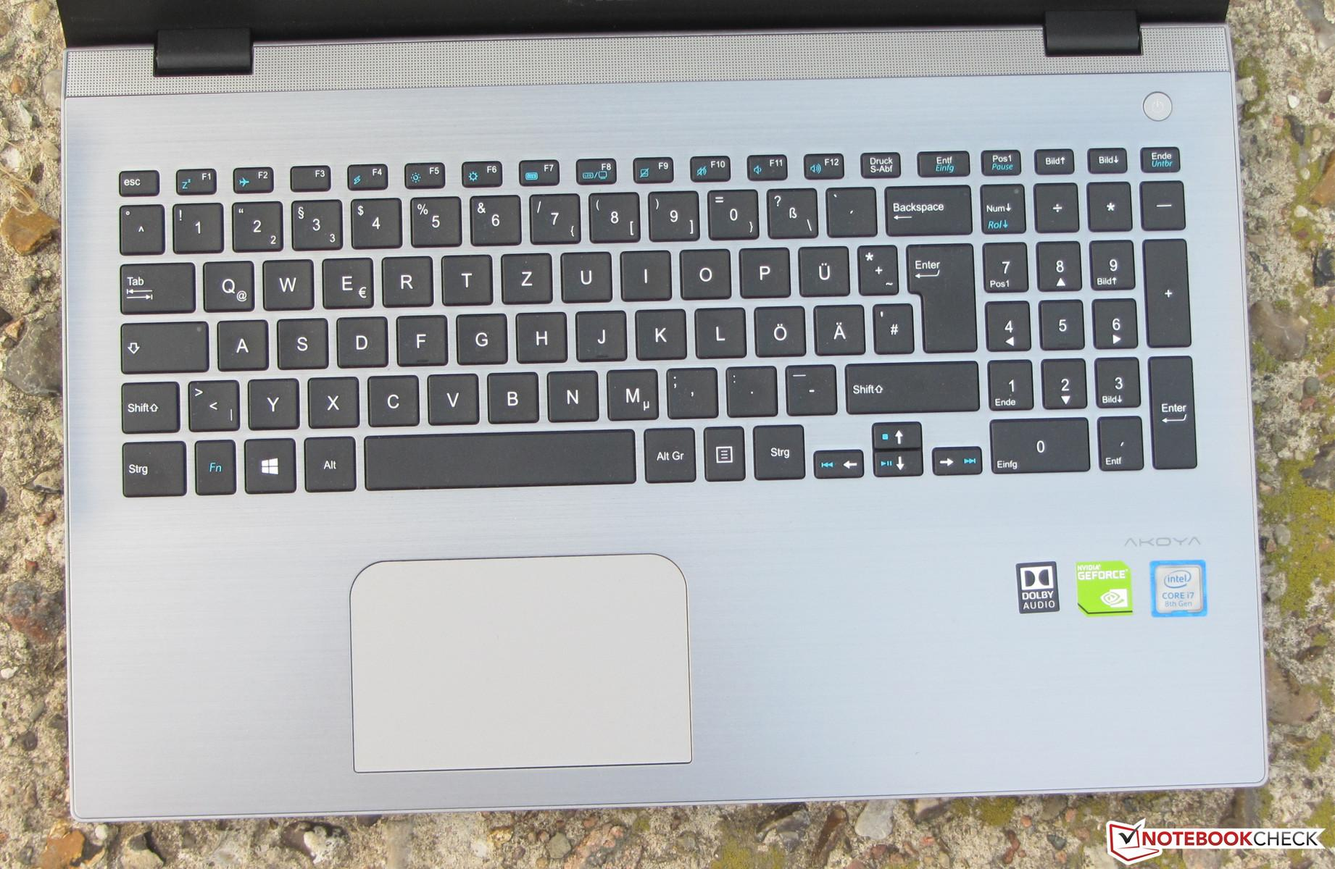0: (703, 185, 756, 237)
1: (170, 199, 221, 251)
2: (229, 198, 280, 249)
3: (288, 196, 341, 248)
4: (348, 194, 399, 245)
5: (407, 193, 459, 244)
6: (467, 191, 519, 243)
7: (527, 190, 577, 241)
8: (586, 189, 638, 240)
9: (645, 187, 696, 239)
a: (214, 315, 266, 369)
accent: (823, 183, 874, 235)
ae: (810, 300, 862, 353)
alt-left: (301, 434, 354, 490)
altgr-right: (641, 424, 694, 481)
b: (483, 368, 538, 421)
c: (364, 371, 417, 425)
caret: (116, 201, 162, 252)
comma: (662, 364, 716, 416)
d: (333, 313, 386, 366)
del: (881, 181, 969, 233)
e: (318, 253, 371, 306)
enter: (902, 239, 973, 350)
f: (394, 311, 445, 364)
g: (453, 309, 505, 362)
h: (512, 308, 565, 361)
hash: (870, 300, 912, 352)
i: (617, 245, 669, 298)
j: (573, 306, 625, 358)
k: (632, 305, 685, 358)
keyboard: (102, 121, 1201, 506)
l: (691, 303, 744, 356)
less: (185, 376, 238, 429)
m: (602, 364, 657, 418)
minus: (781, 361, 834, 413)
n: (543, 366, 597, 420)
o: (676, 245, 729, 297)
oe: (751, 302, 804, 355)
p: (736, 243, 788, 295)
plus: (854, 241, 896, 293)
point: (723, 363, 775, 413)
q: (199, 256, 252, 309)
r: (378, 252, 431, 305)
s: (273, 314, 325, 367)
shift-left: (116, 377, 177, 432)
shift-lock: (116, 317, 207, 371)
shift-right: (842, 358, 977, 412)
space: (362, 428, 633, 487)
ss: (763, 185, 815, 236)
strg-left: (116, 437, 183, 495)
strg-right: (749, 421, 804, 478)
t: (438, 250, 490, 302)
tab: (116, 258, 191, 311)
u: (557, 248, 610, 301)
ue: (795, 243, 847, 295)
v: (424, 369, 477, 422)
w: (258, 254, 311, 308)
x: (304, 372, 357, 425)
y: (244, 374, 297, 427)
z: (498, 248, 551, 301)
